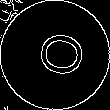O_W: (25, 29, 85, 81)
